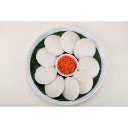idly: (61, 31, 82, 53), (78, 57, 99, 78), (74, 72, 94, 94), (34, 64, 56, 84), (36, 47, 57, 67), (75, 38, 95, 58), (44, 36, 64, 56), (45, 76, 64, 97), (64, 77, 80, 101)
